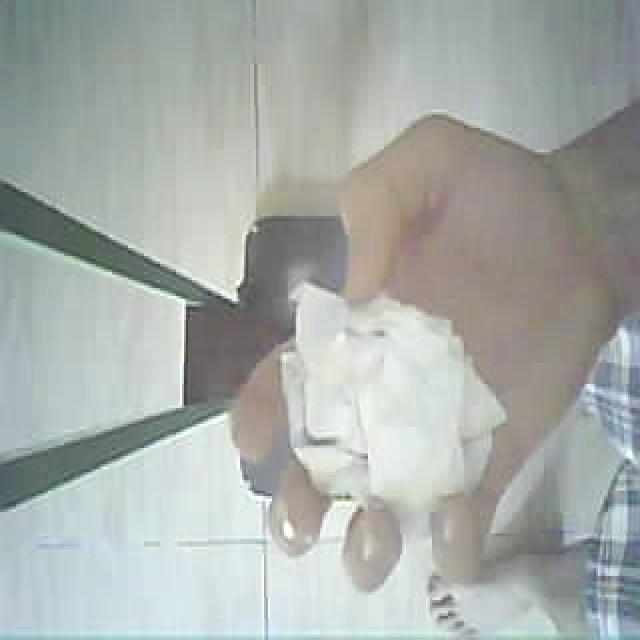Paper: (269, 291, 500, 523)
